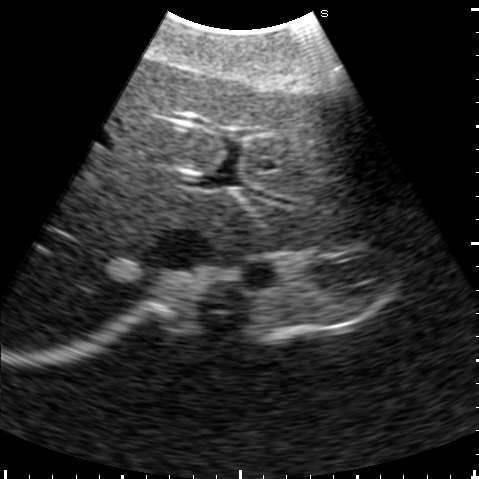IVC: (151, 227, 218, 269)
S1: (205, 192, 274, 256)
S2: (242, 179, 411, 249)
S3: (236, 82, 400, 207)
